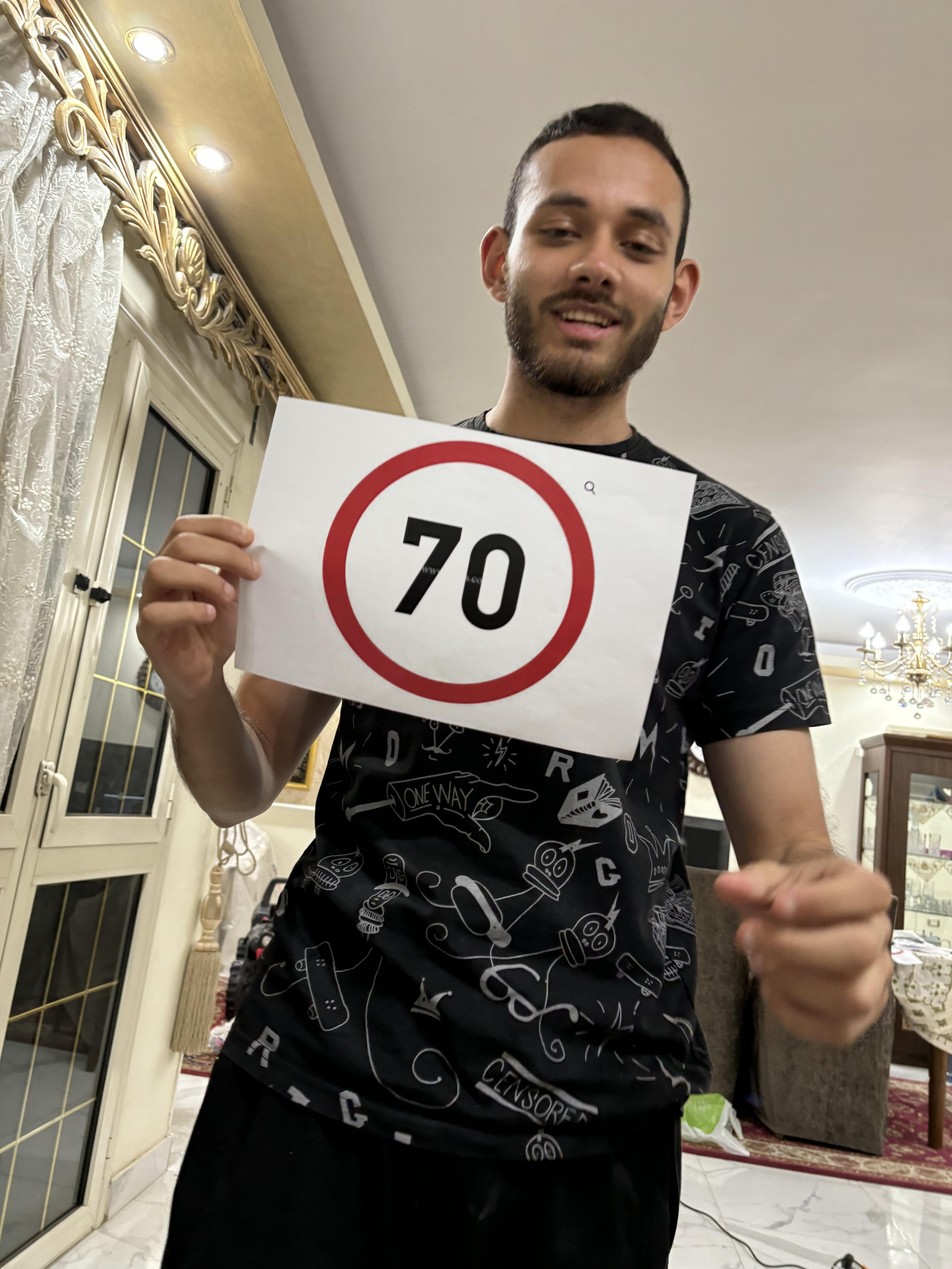70-Speed: (316, 434, 596, 712)
